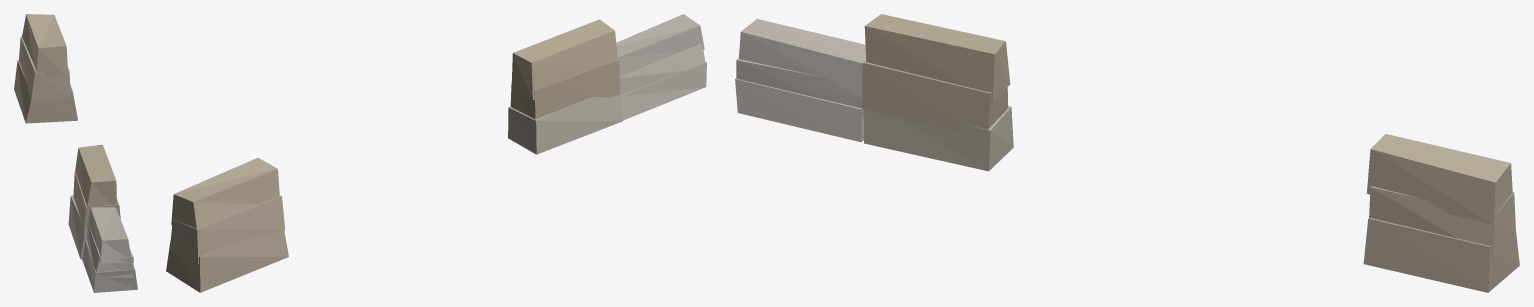
Rendered from farm_-3_15_mid.glb.
3 renders of one model, left to right at view 1: azimuth 30°, elevation 25°; view 2: azimuth 150°, elevation 25°; view 3: azimuth 270°, elevation 25°, orthographic. The views are drawn at different scales.
Parts seen in each view (by area): view 1: geometry_0; view 2: geometry_0; view 3: geometry_0.
Part boxes in pixels (x1,y1,x2,y2): geometry_0: (14,14,137,292); geometry_0: (166,14,706,292); geometry_0: (735,14,1519,292).
Size of the model in its own units: 3.77 by 1.69 by 7.94.
